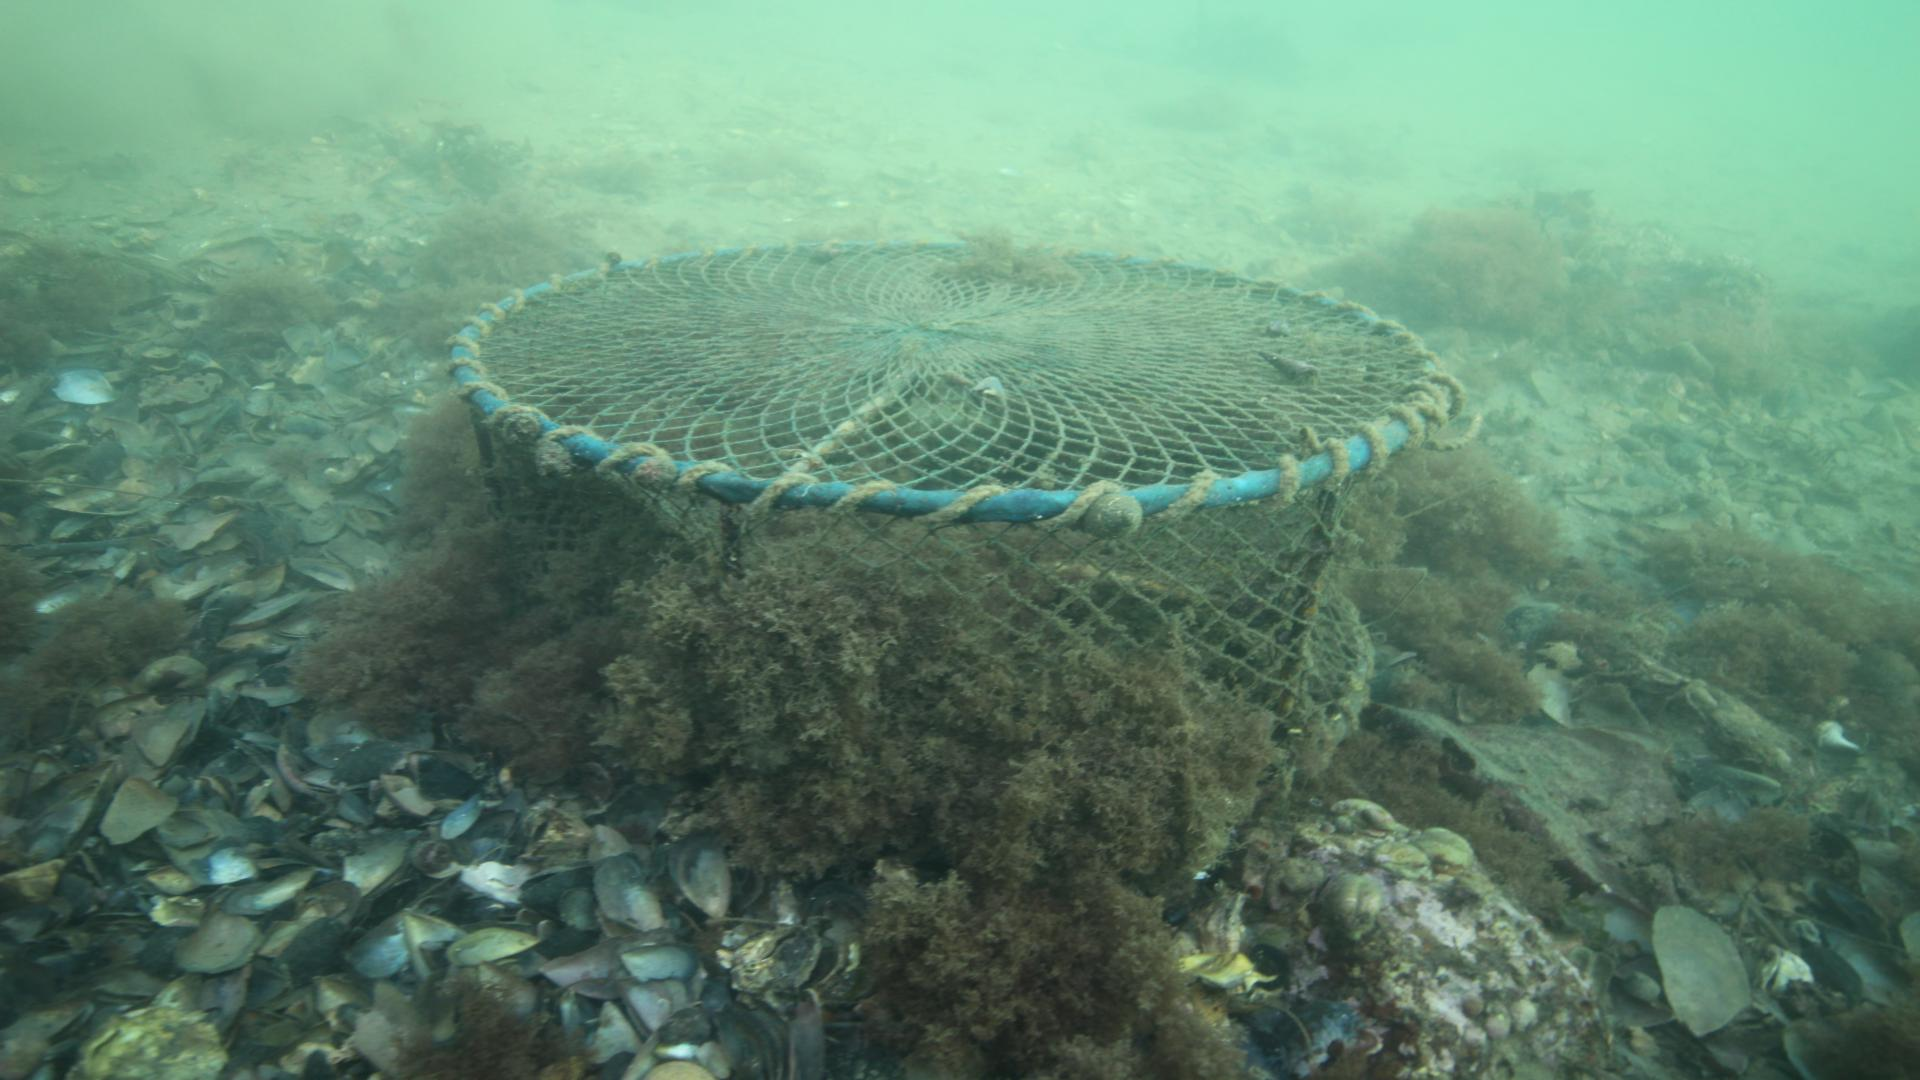circular fish trap: (443, 235, 1465, 770)
